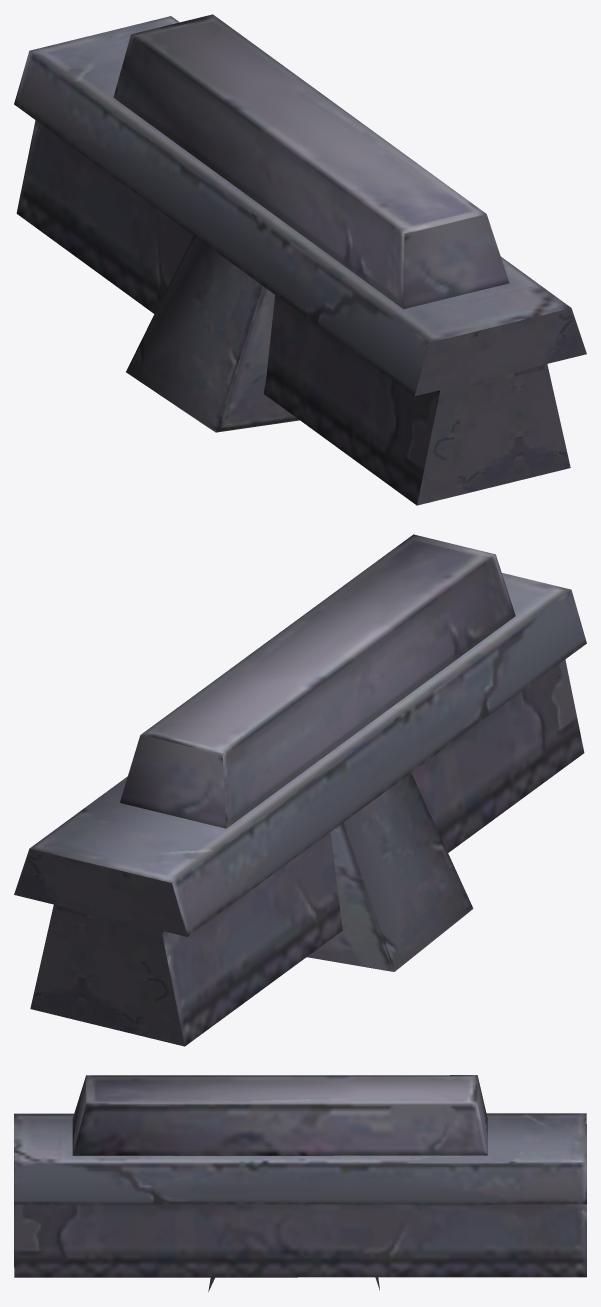
Rendered from TwistedJungle_columns03.FBX.
3 views of the same model, one above another, from view 1: azimuth 30°, elevation 25°; view 2: azimuth 150°, elevation 25°; view 3: azimuth 270°, elevation 25° (orthographic). The views are drawn at different scales.
Parts seen in each view (by area): view 1: TwistedJungle_columns03; view 2: TwistedJungle_columns03; view 3: TwistedJungle_columns03.
Part boxes in pixels (x1,y1,x2,y2): TwistedJungle_columns03: (14,14,586,505); TwistedJungle_columns03: (14,534,586,1046); TwistedJungle_columns03: (14,1075,586,1291).
Size of the model in its own units: 4.09 by 4.52 by 12.8.
